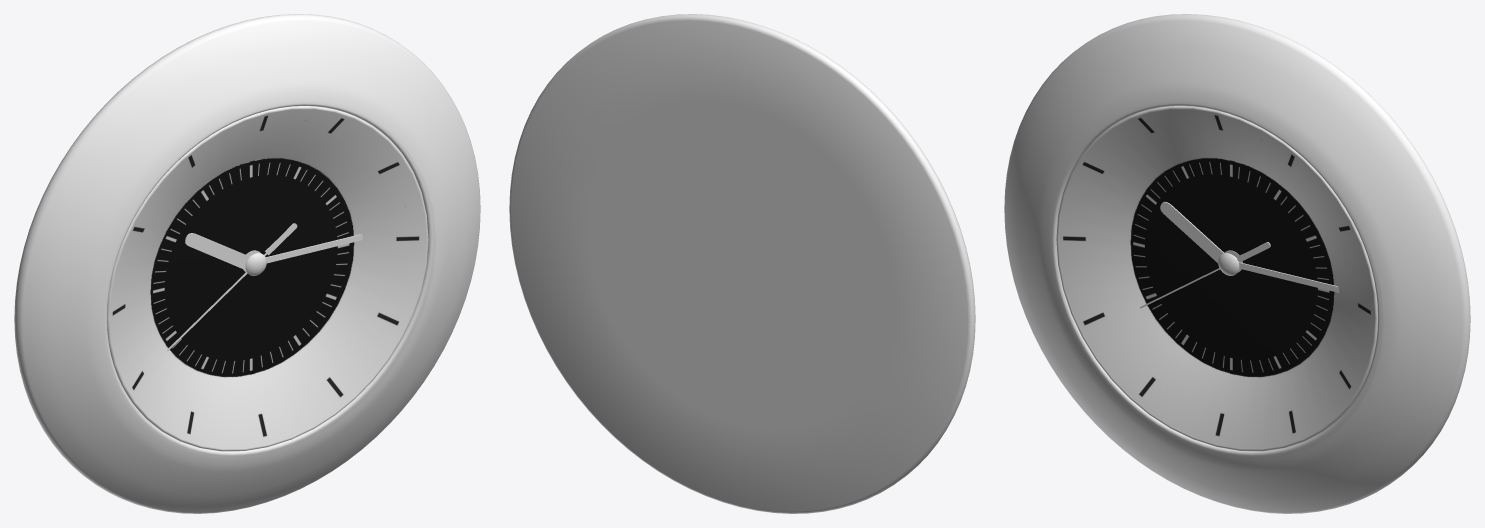
Rendered from clock.FBX.
3 renders of one model, left to right at view 1: azimuth 30°, elevation 25°; view 2: azimuth 150°, elevation 25°; view 3: azimuth 330°, elevation 25°, orthographic.
Visible parts, largest first — view 1: clock; view 2: clock; view 3: clock.
Boxes of the visible parts, x1=… form: clock: x1=14, y1=14, x2=480, y2=513; clock: x1=509, y1=14, x2=975, y2=513; clock: x1=1004, y1=14, x2=1470, y2=513.
Bounding box in the file's own units: 1134 × 1134 × 144.
Materials: 3 (1 with a texture image).
